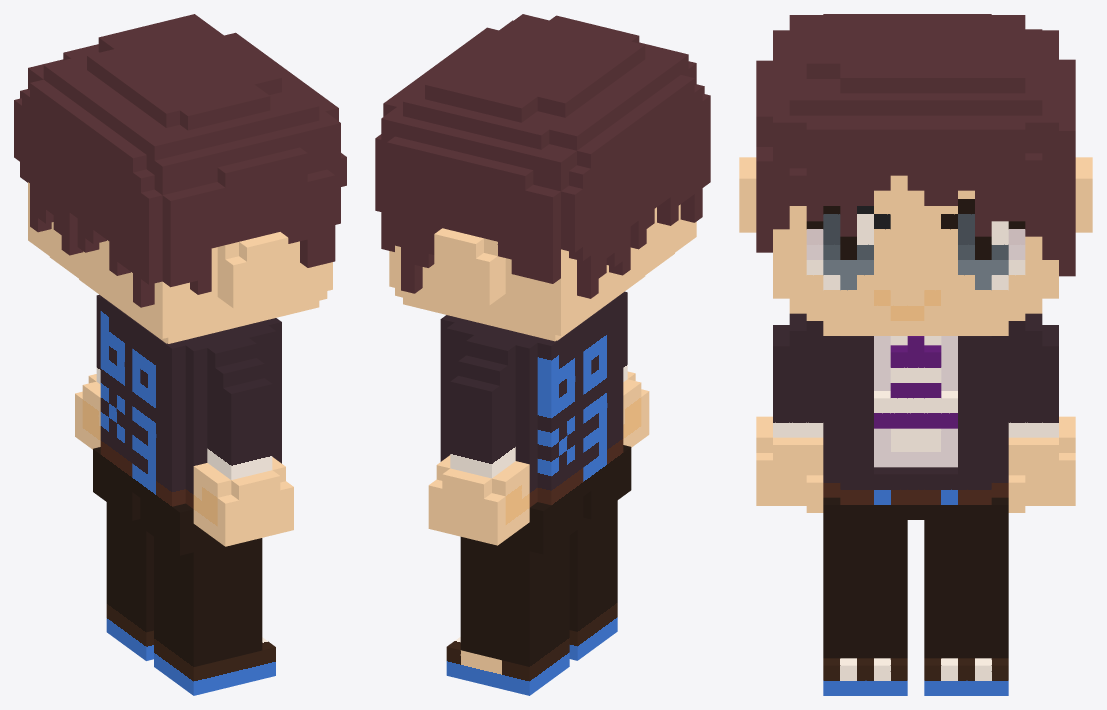
The model's file is 主持人.gltf.
The picture shows the model from 3 angles, left to right: view 1: azimuth 30°, elevation 25°; view 2: azimuth 150°, elevation 25°; view 3: azimuth 270°, elevation 25°; orthographic projection. The views are drawn at different scales.
Parts seen in each view (by area): view 1: Object; view 2: Object; view 3: Object.
Boxes of the visible parts, left/top/right/bottom form: Object: left=14, top=14, right=346, bottom=695; Object: left=375, top=14, right=710, bottom=695; Object: left=739, top=14, right=1092, bottom=695.
Size of the model in its own units: 15 by 41 by 21.
Materials: 1 (1 with a texture image).
